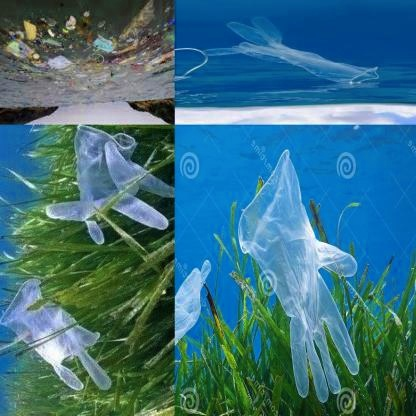Mask: (93, 34, 115, 53)
glove: (235, 149, 360, 404), (46, 126, 174, 249), (0, 273, 110, 395), (205, 18, 381, 82), (175, 248, 215, 401)
